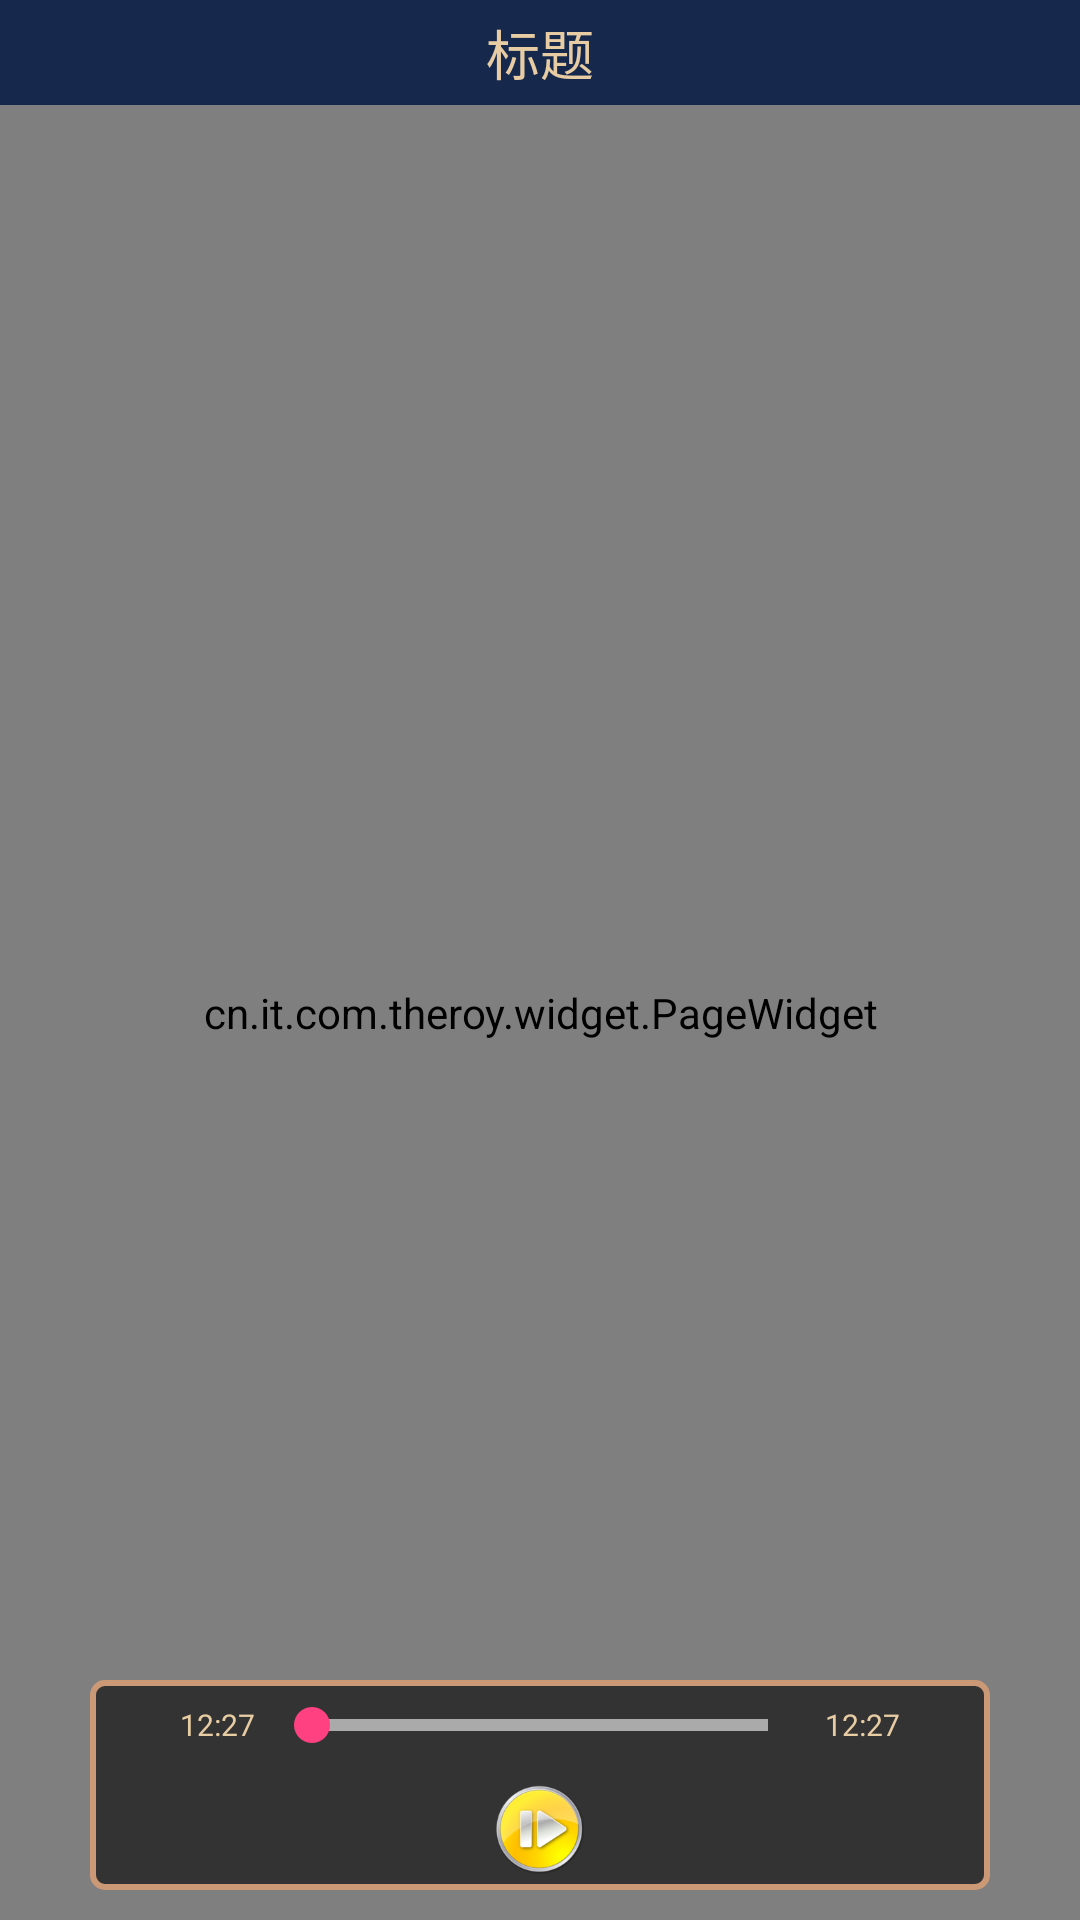

Named icons in this screenshot (1080px×1920px) and their bounding boxes, (x1,y1,x2,y2):
pause: (496,1786,582,1872)
